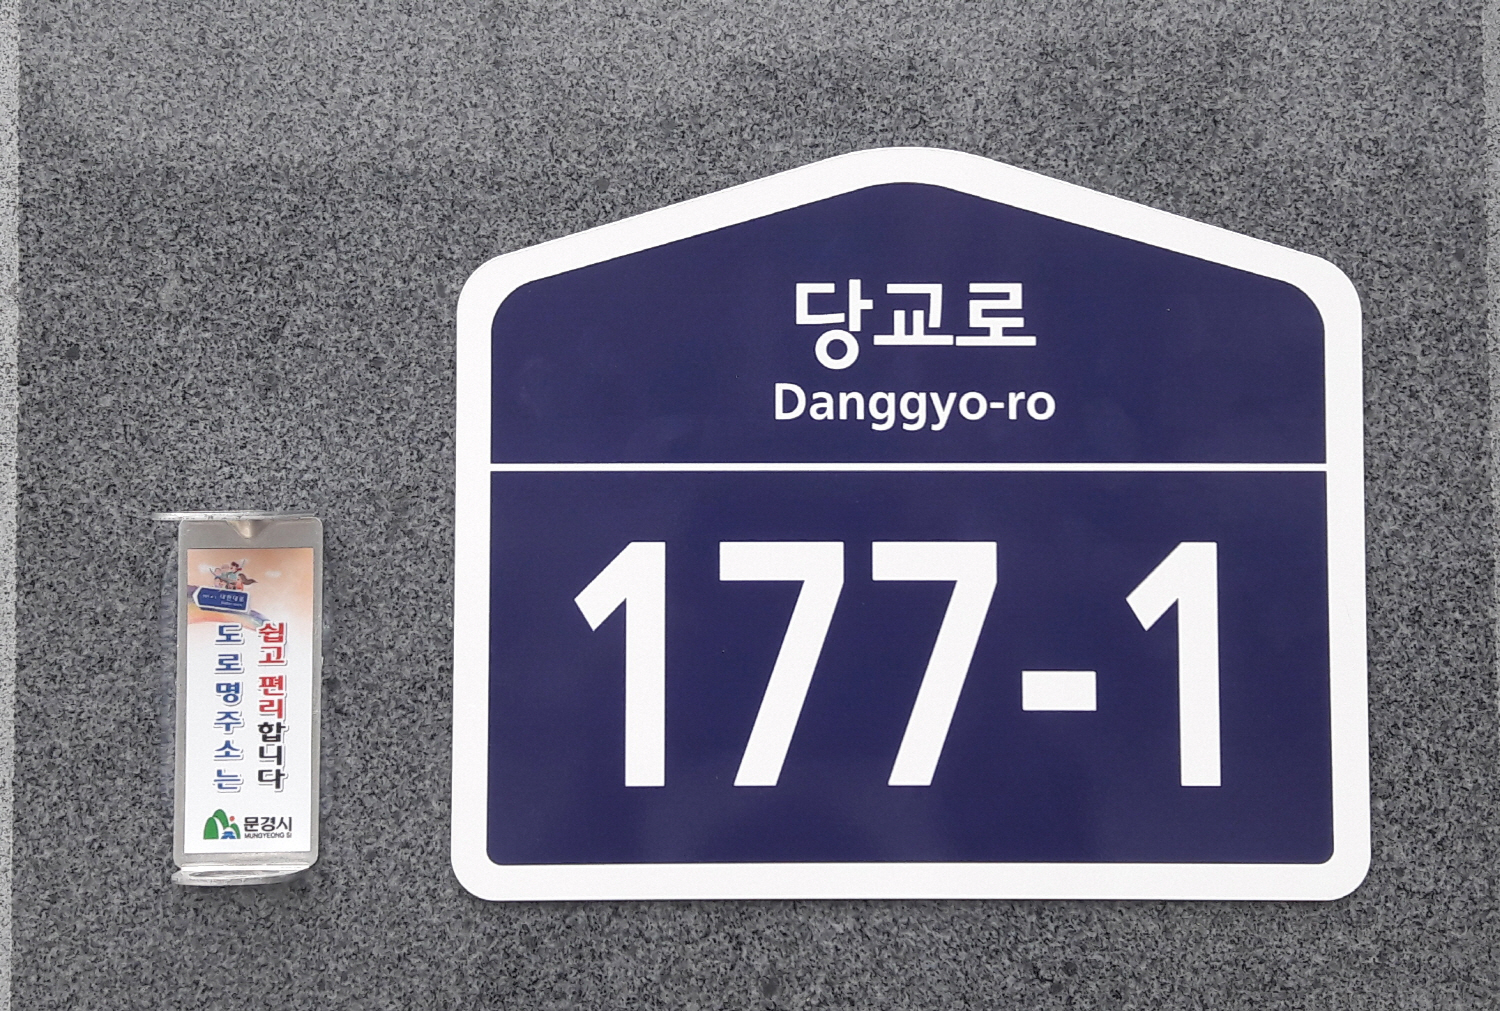building_license_plate1: (453, 146, 1372, 903)
